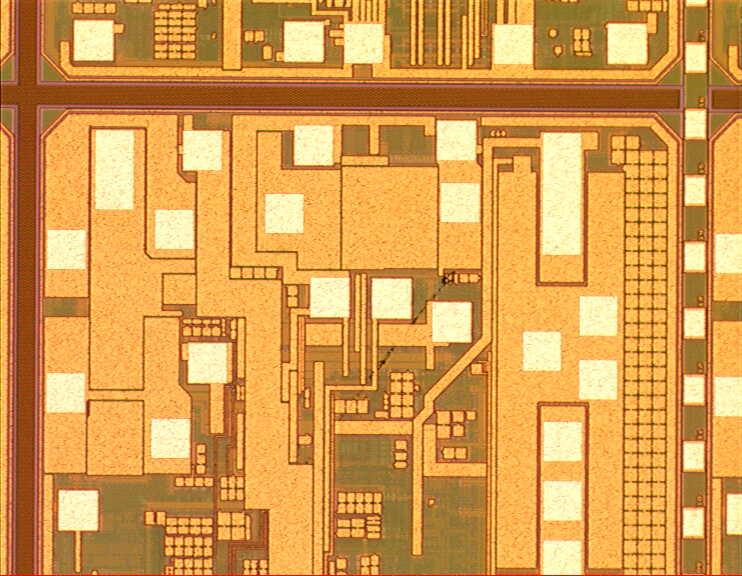SCRATCH: (297, 268, 465, 473)
